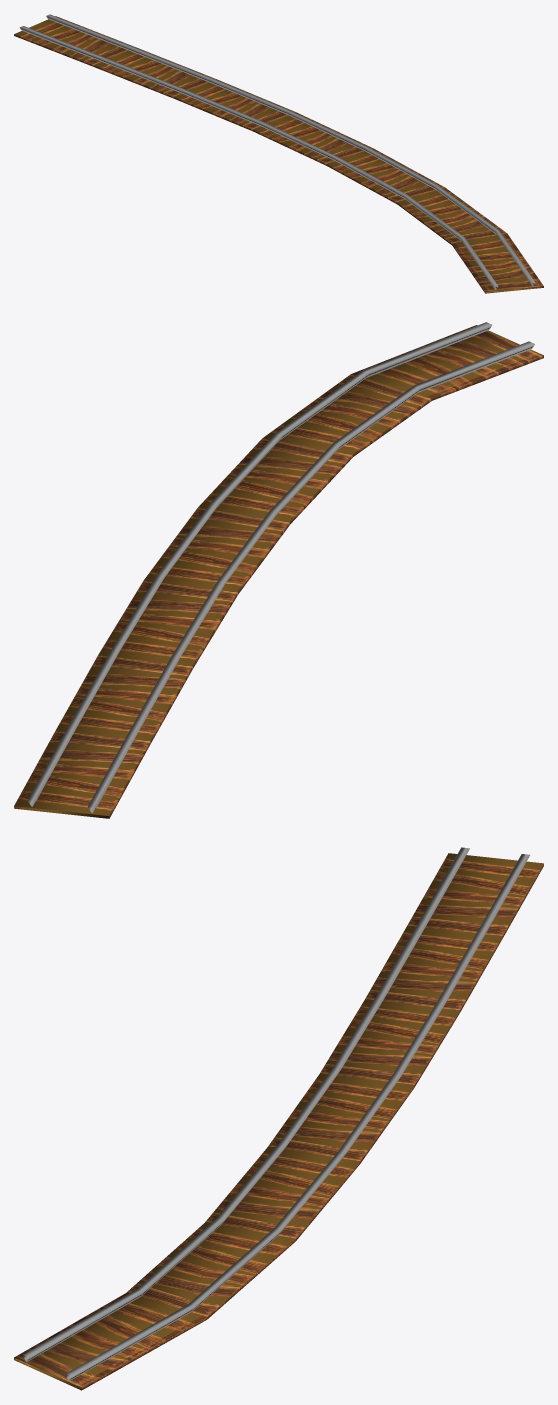
File: SWORDLIGHT20_TRACK7.fbx
3 renders of one model, top to bottom at view 1: azimuth 30°, elevation 25°; view 2: azimuth 150°, elevation 25°; view 3: azimuth 330°, elevation 25°, orthographic. The views are drawn at different scales.
Visible parts, largest first — view 1: SWORDLIGHT20_TRACK7; view 2: SWORDLIGHT20_TRACK7; view 3: SWORDLIGHT20_TRACK7.
Boxes of the visible parts, x1=… form: SWORDLIGHT20_TRACK7: x1=14, y1=14, x2=543, y2=293; SWORDLIGHT20_TRACK7: x1=14, y1=322, x2=543, y2=818; SWORDLIGHT20_TRACK7: x1=14, y1=847, x2=543, y2=1390.
Bounding box in the file's own units: 53830 × 6078 × 207786.
Materials: 2 (2 with a texture image).
